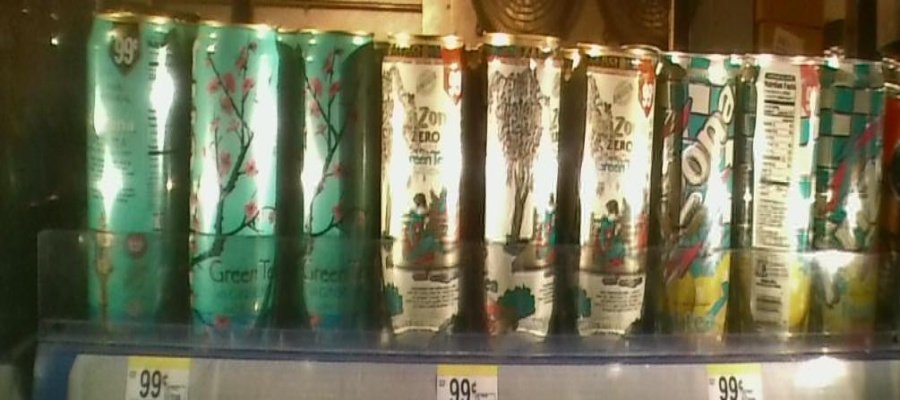bottle: (81, 7, 182, 349), (184, 12, 285, 346), (474, 16, 566, 358), (379, 24, 468, 362), (572, 24, 656, 368), (290, 12, 375, 351), (658, 24, 739, 359), (742, 30, 822, 347), (822, 30, 884, 350)
